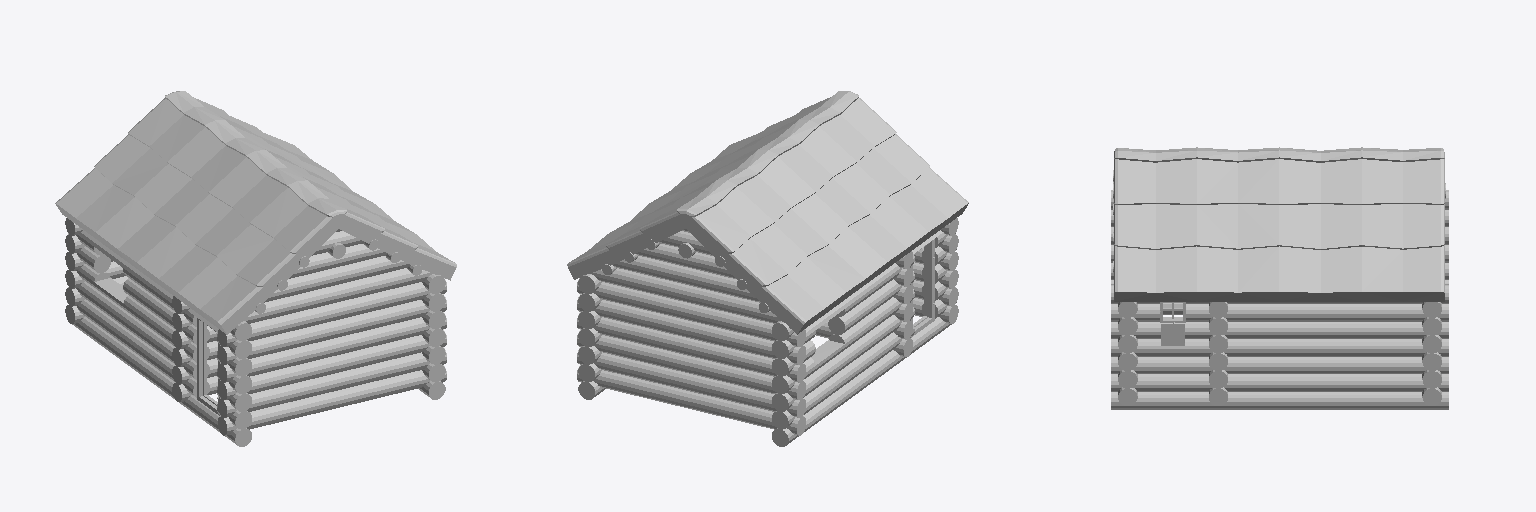
The model's file is gatherer.obj.
3 renders of one model, left to right at view 1: azimuth 30°, elevation 25°; view 2: azimuth 150°, elevation 25°; view 3: azimuth 270°, elevation 25°, orthographic.
Visible parts, largest first — view 1: Logs_low_meshId8_name.001, Roof_low_meshId0_name.001, Door_frame_low_meshId6_name.001; view 2: Logs_low_meshId8_name.001, Roof_low_meshId0_name.001, Door_frame_low_meshId6_name.001; view 3: Roof_low_meshId0_name.001, Logs_low_meshId8_name.001, Lid_low_meshId1_name.001.
Boxes of the visible parts, <box> form: Logs_low_meshId8_name.001: <box>65,218,446,446</box>; Roof_low_meshId0_name.001: <box>55,91,456,334</box>; Door_frame_low_meshId6_name.001: <box>197,318,220,415</box>; Logs_low_meshId8_name.001: <box>577,218,958,446</box>; Roof_low_meshId0_name.001: <box>567,91,968,334</box>; Door_frame_low_meshId6_name.001: <box>910,239,934,337</box>; Roof_low_meshId0_name.001: <box>1114,147,1444,301</box>; Logs_low_meshId8_name.001: <box>1111,170,1448,409</box>; Lid_low_meshId1_name.001: <box>1161,323,1184,345</box>.
Size of the model in its own units: 3.27 by 2.76 by 4.